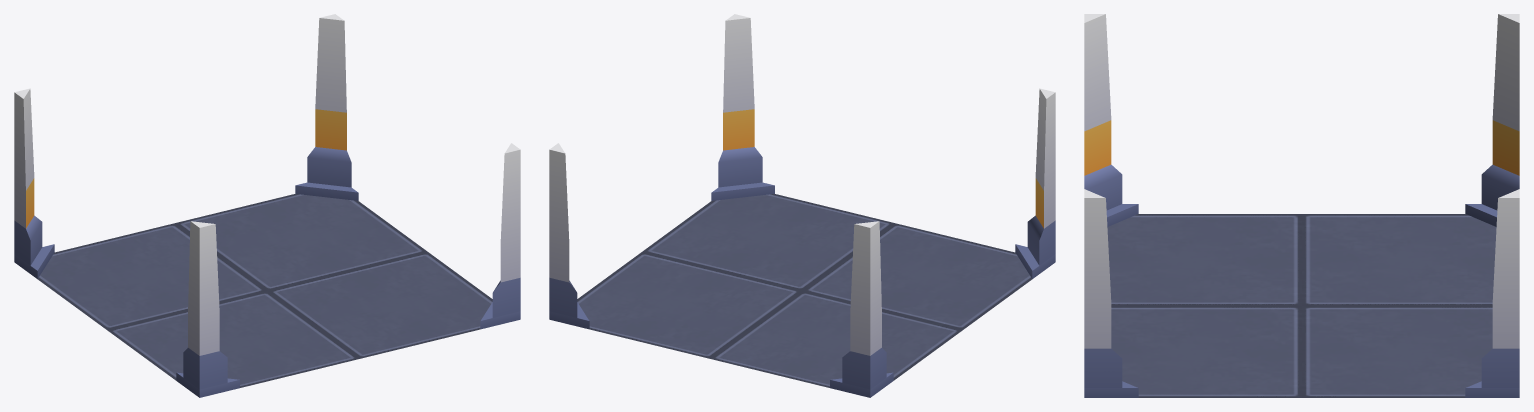
File: kenney-space-corridor-wide-intersection.glb
The picture shows the model from 3 angles, left to right: view 1: azimuth 30°, elevation 25°; view 2: azimuth 150°, elevation 25°; view 3: azimuth 270°, elevation 25°; orthographic projection. The views are drawn at different scales.
Parts seen in each view (by area): view 1: corridor-wide-intersection; view 2: corridor-wide-intersection; view 3: corridor-wide-intersection.
Part boxes in pixels (x1,y1,x2,y2): corridor-wide-intersection: [14, 14, 520, 397]; corridor-wide-intersection: [549, 14, 1055, 397]; corridor-wide-intersection: [1084, 14, 1519, 397].
Size of the model in its own units: 6 by 3.04 by 6.
Materials: 1 (1 with a texture image).
